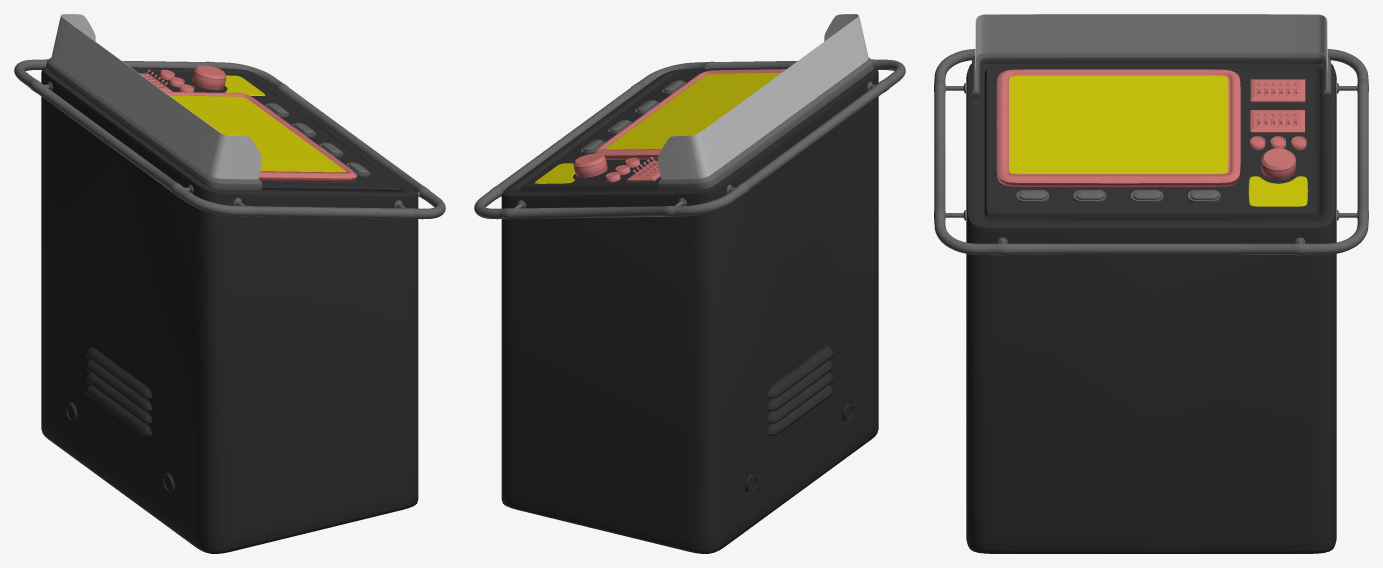
The model's file is L1E1_Sequence_02_Minimap Computer.fbx.
3 renders of one model, left to right at view 1: azimuth 30°, elevation 25°; view 2: azimuth 150°, elevation 25°; view 3: azimuth 270°, elevation 25°, orthographic. The views are drawn at different scales.
Parts seen in each view (by area): view 1: pultBase_low_3, pultBase_low_2, pultBase_low, pultLcd_low, pultLcd_low_2, pultWarning_low_2, pultRollButton_low, pultWarning_low, pultMat_low; view 2: pultBase_low_3, pultBase_low_2, pultBase_low, pultLcd_low, pultLcd_low_2, pultWarning_low, pultWarning_low_2, pultRollButton_low, pultMat_low; view 3: pultBase_low_3, pultLcd_low, pultBase_low_2, pultBase_low, pultLcd_low_2, pultWarning_low, pultMat_low, pultWarning_low_2, pultRollButton_low.
Part boxes in pixels (<box>): pultBase_low_3: <box>41,67,418,553</box>; pultBase_low_2: <box>14,58,445,219</box>; pultBase_low: <box>51,14,261,179</box>; pultLcd_low: <box>170,95,345,172</box>; pultLcd_low_2: <box>165,92,356,182</box>; pultWarning_low_2: <box>265,103,370,176</box>; pultRollButton_low: <box>192,65,226,89</box>; pultWarning_low: <box>139,69,194,92</box>; pultMat_low: <box>224,75,265,95</box>; pultBase_low_3: <box>501,67,878,553</box>; pultBase_low_2: <box>474,58,905,219</box>; pultBase_low: <box>658,14,868,179</box>; pultLcd_low: <box>605,72,781,149</box>; pultLcd_low_2: <box>594,69,786,159</box>; pultWarning_low: <box>605,156,660,182</box>; pultWarning_low_2: <box>581,80,685,153</box>; pultRollButton_low: <box>573,153,607,177</box>; pultMat_low: <box>535,163,574,183</box>; pultBase_low_3: <box>966,63,1336,553</box>; pultLcd_low: <box>1009,75,1228,173</box>; pultBase_low_2: <box>934,49,1368,255</box>; pultBase_low: <box>975,14,1327,87</box>; pultLcd_low_2: <box>996,69,1240,186</box>; pultWarning_low: <box>1250,79,1306,150</box>; pultMat_low: <box>1248,176,1307,206</box>; pultWarning_low_2: <box>1016,190,1220,202</box>; pultRollButton_low: <box>1261,148,1295,179</box>.
Bounding box in the file's own units: 0.7675 × 1.19 × 1.07.
